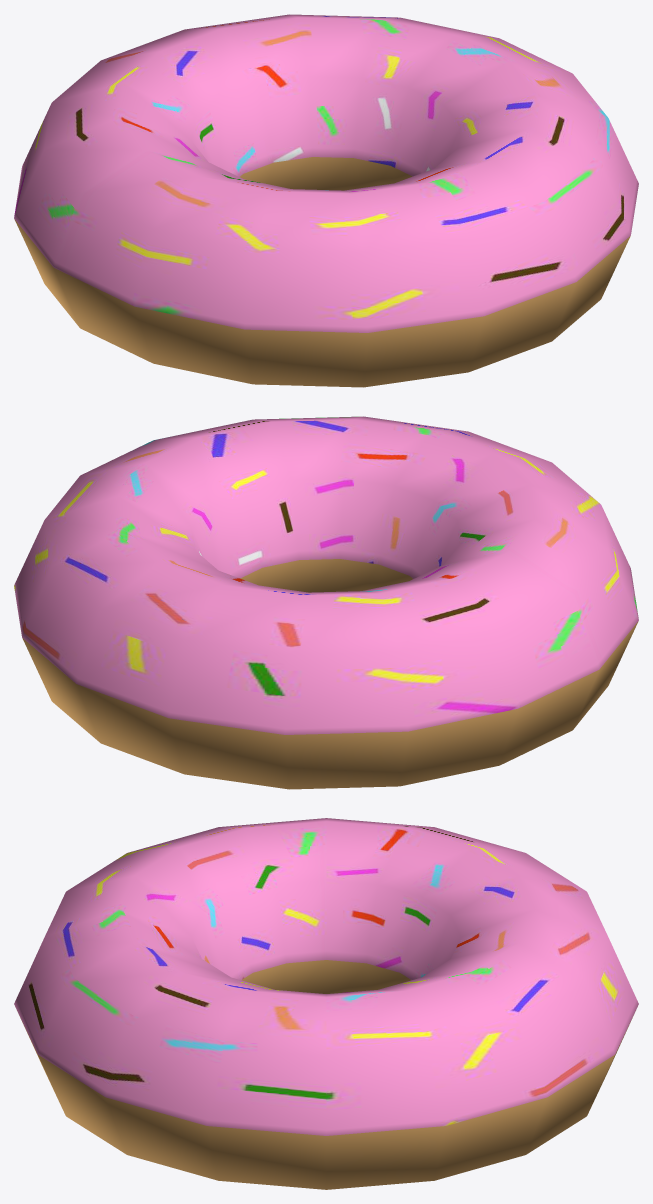
The model's file is Donut.fbx.
The picture shows the model from 3 angles, top to bottom: view 1: azimuth 30°, elevation 25°; view 2: azimuth 150°, elevation 25°; view 3: azimuth 270°, elevation 25°; orthographic projection.
Parts seen in each view (by area): view 1: Donut; view 2: Donut; view 3: Donut.
Boxes of the visible parts, x1,y1,x2,y2 form: Donut: (14,14,638,387); Donut: (14,416,638,789); Donut: (14,818,638,1189).
Bounding box in the file's own units: 300 × 100 × 300.
